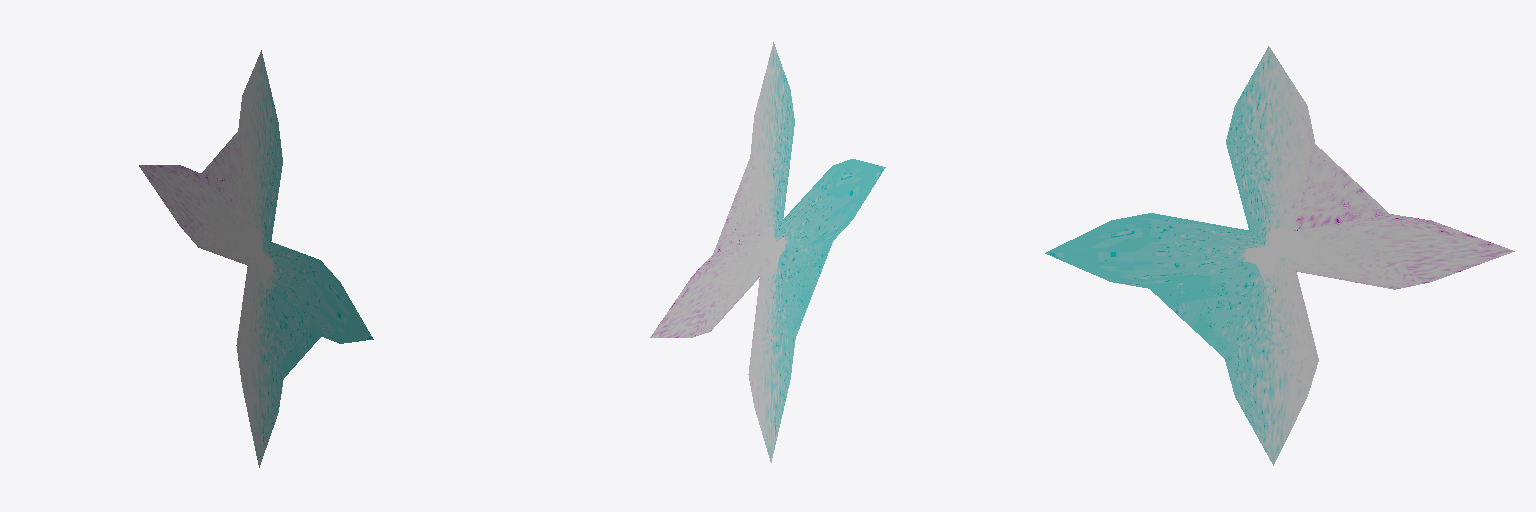
The picture shows the model from 3 angles: view 1: azimuth 30°, elevation 25°; view 2: azimuth 150°, elevation 25°; view 3: azimuth 270°, elevation 25°; orthographic projection.
Visible parts, largest first — view 1: Plane; view 2: Plane; view 3: Plane.
Part boxes in pixels (x1,y1,x2,y2): Plane: (139, 50, 373, 467); Plane: (650, 42, 885, 462); Plane: (1045, 46, 1514, 465).
Size of the model in its own units: 0 by 2.89 by 2.94.
1 materials, 1 textured.